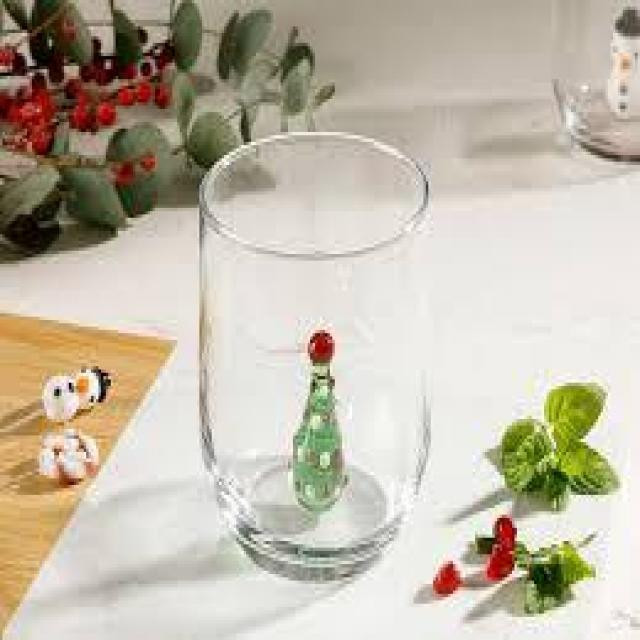glass: (196, 127, 434, 572)
